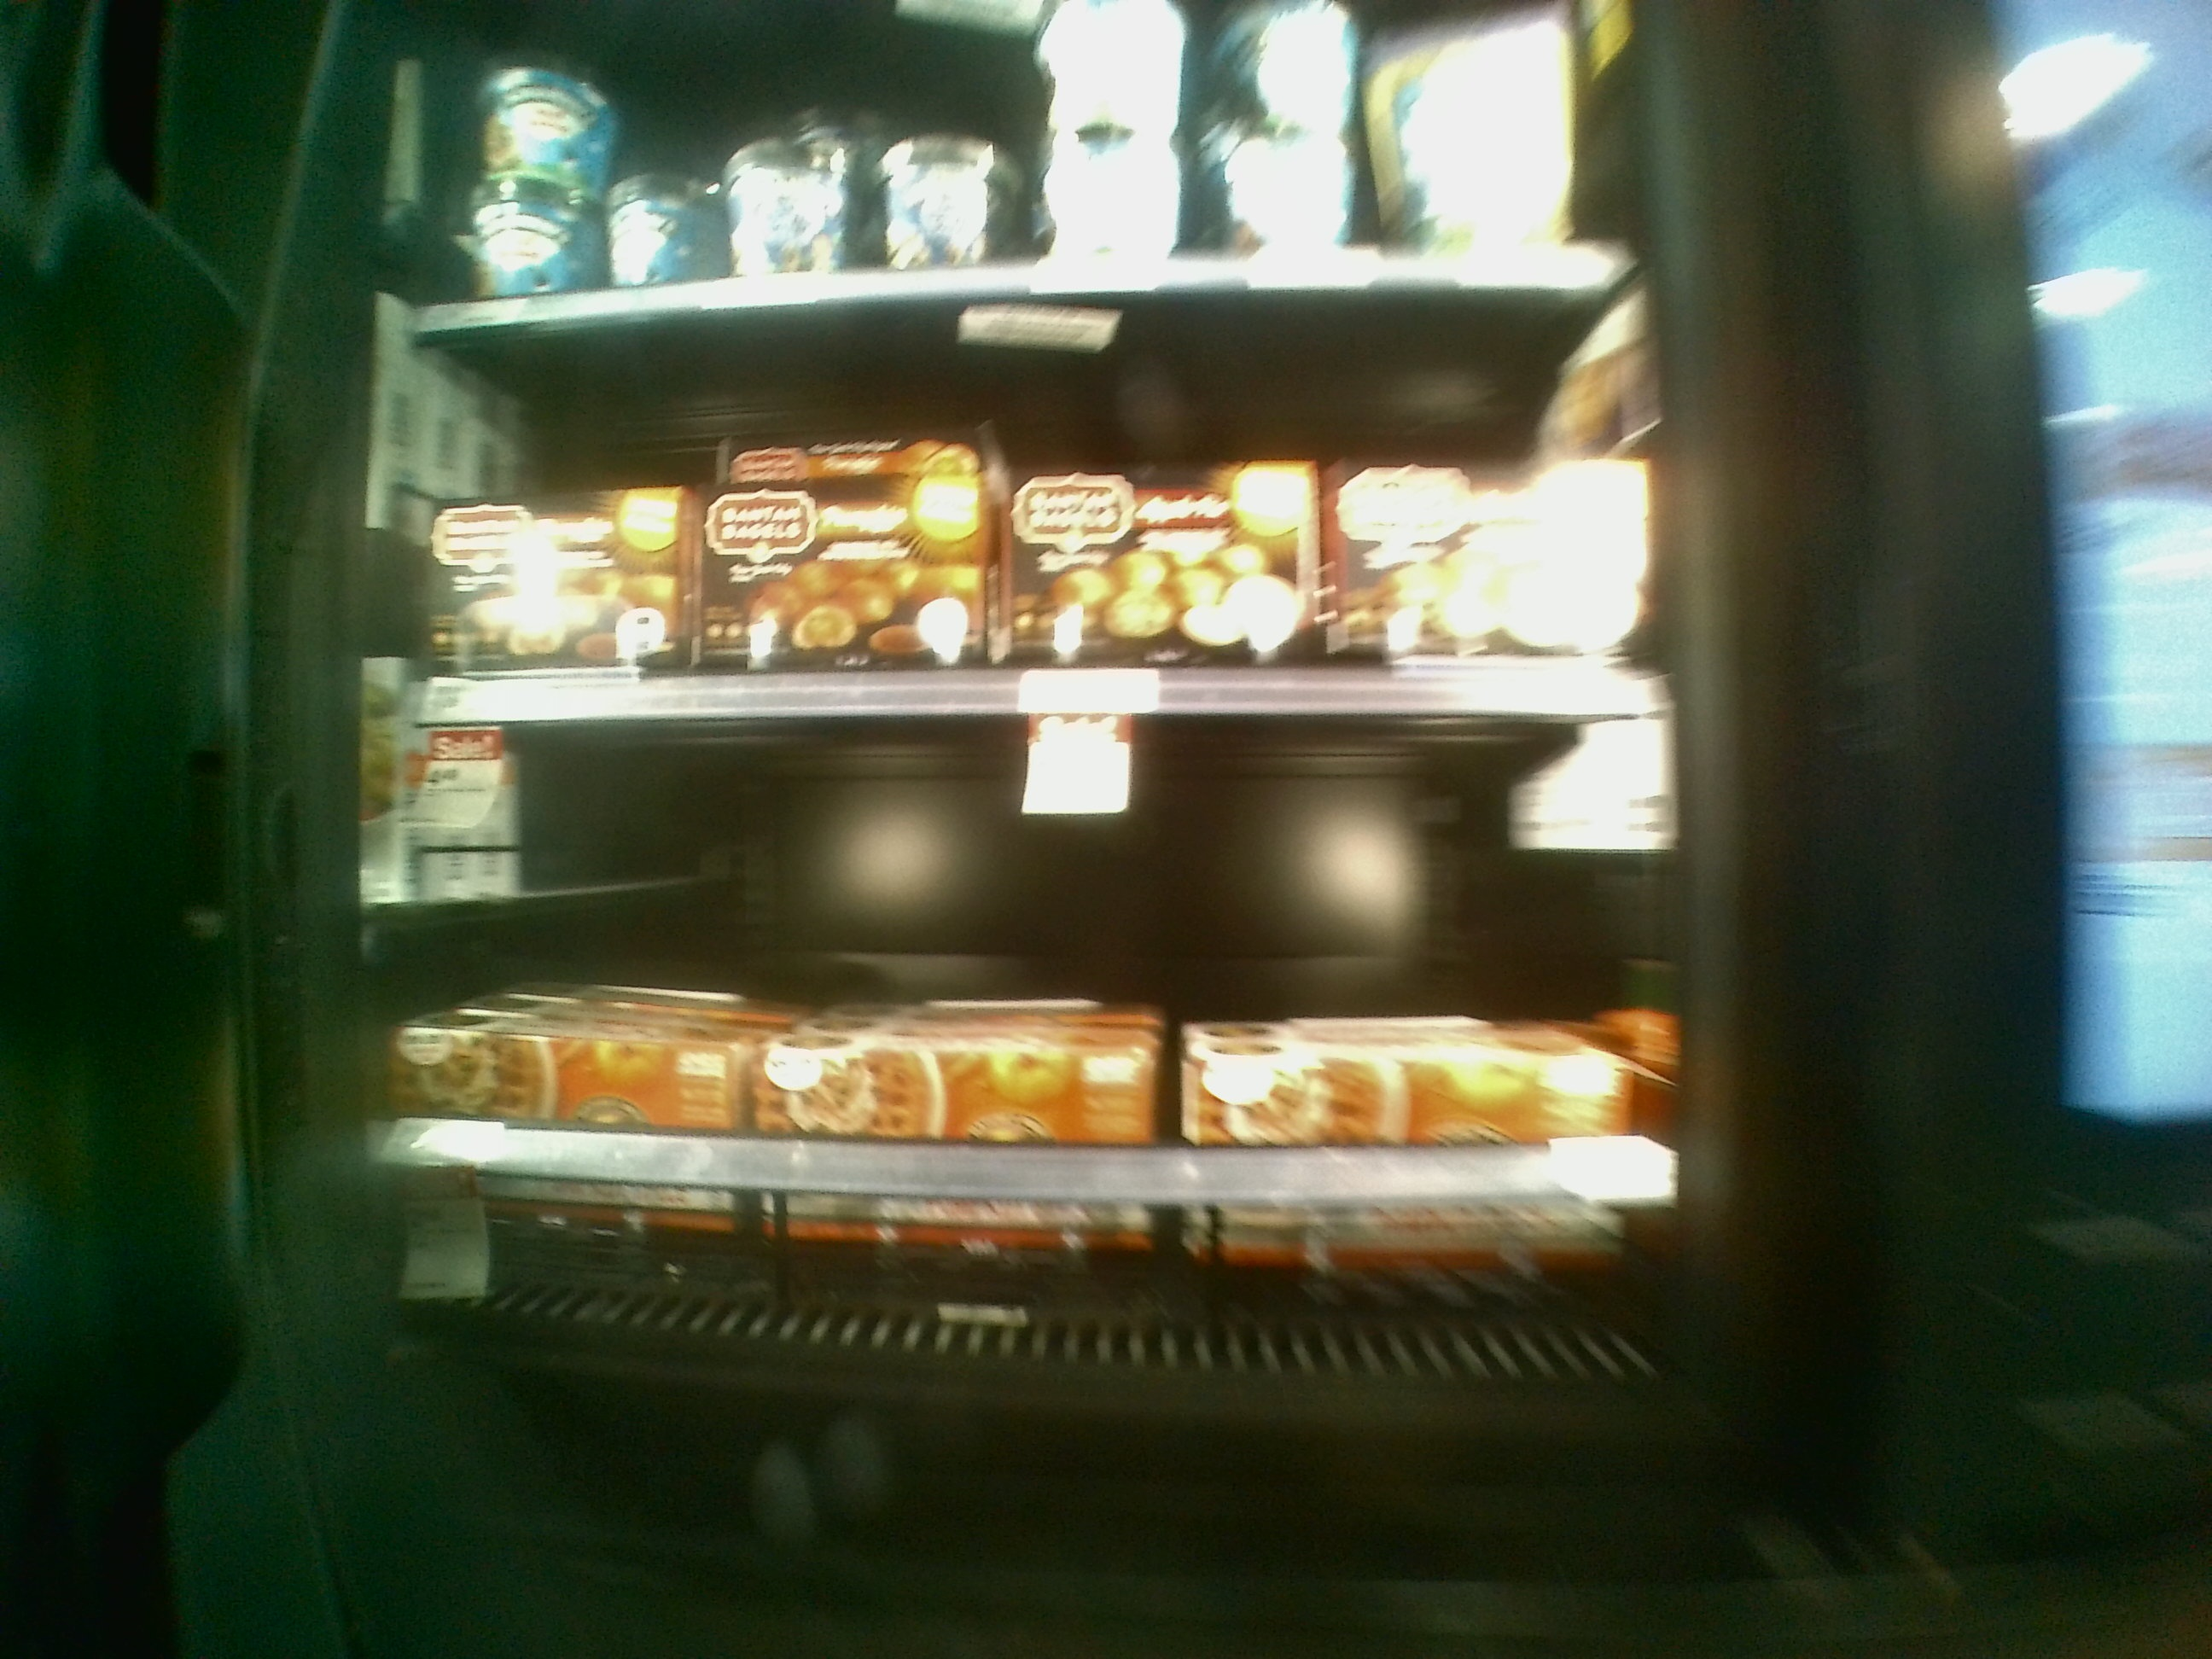shelf: (392, 673, 1695, 1391), (402, 315, 1662, 723)
